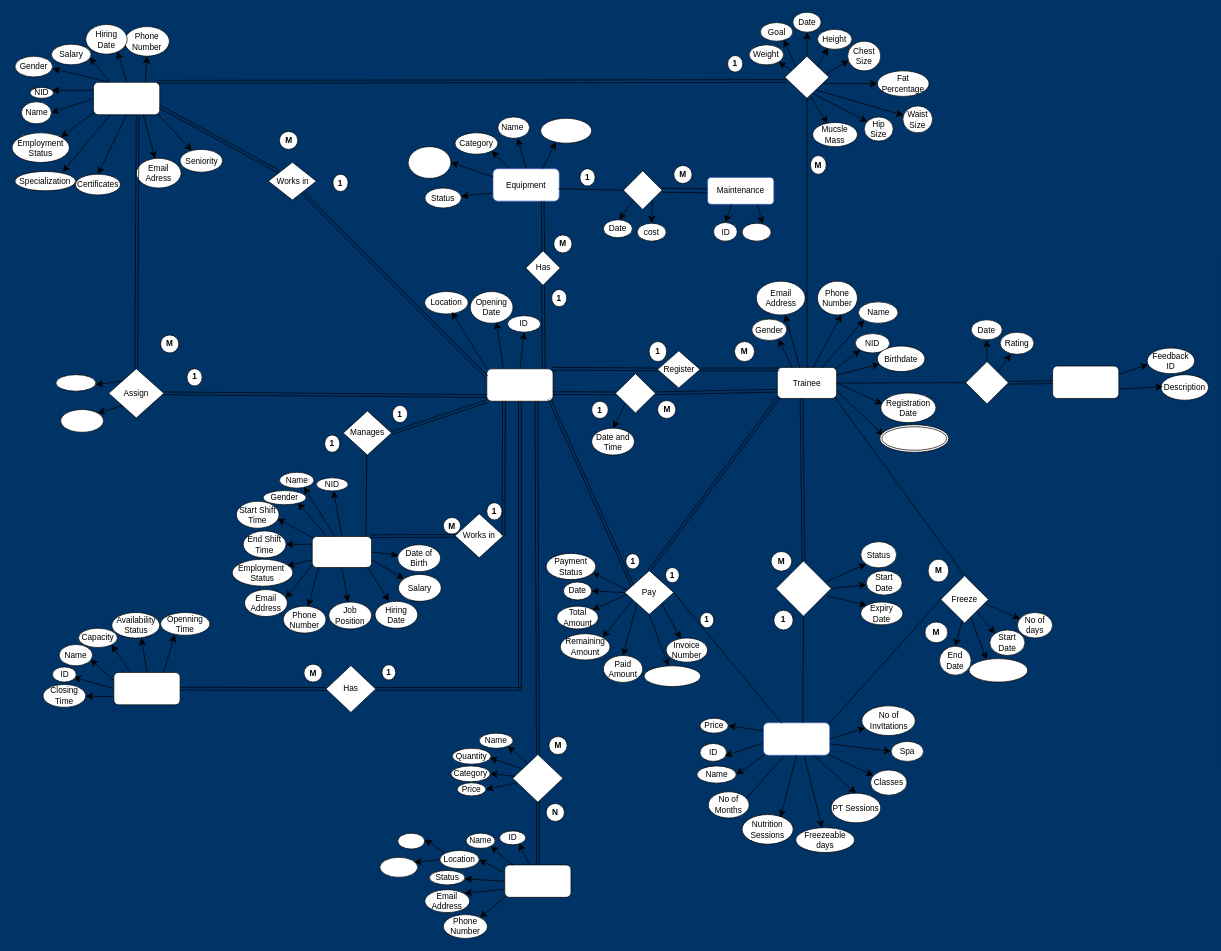
The diagram is 1221 pixels wide and 951 high, and some of its shapes have lost their labels. The shapes that lost their labels are listed below. From the top down, each one's centre as x and y in pixels, then its label:
the point at 806,77: Train
the point at 126,98: Trainer
the point at 566,130: Equipment ID
the point at 429,162: Purchase Date
the point at 642,190: perform
the point at 756,232: Type
the point at 75,382: Duration
the point at 519,384: Branch
the point at 635,393: Attend
the point at 986,382: Give
the point at 1085,381: Feedback
the point at 81,420: Weekly Shifts
the point at 914,438: Health Conditions
the point at 342,552: Staff
the point at 803,588: Subscribe
the point at 146,688: Facility
the point at 672,676: Payment Method
the point at 998,670: Remaining Freezes
the point at 796,738: Membership Packages
the point at 537,778: Provide Supply
the point at 411,840: City
the point at 398,867: Country
the point at 537,880: Supplier
